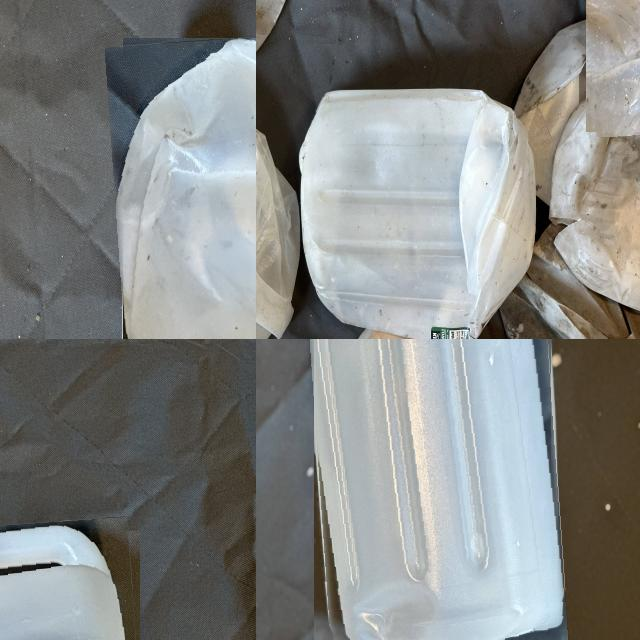milk-jug: (304, 339, 560, 640), (302, 91, 537, 339), (113, 33, 256, 339), (524, 20, 640, 320), (0, 523, 147, 640), (256, 88, 310, 339)
